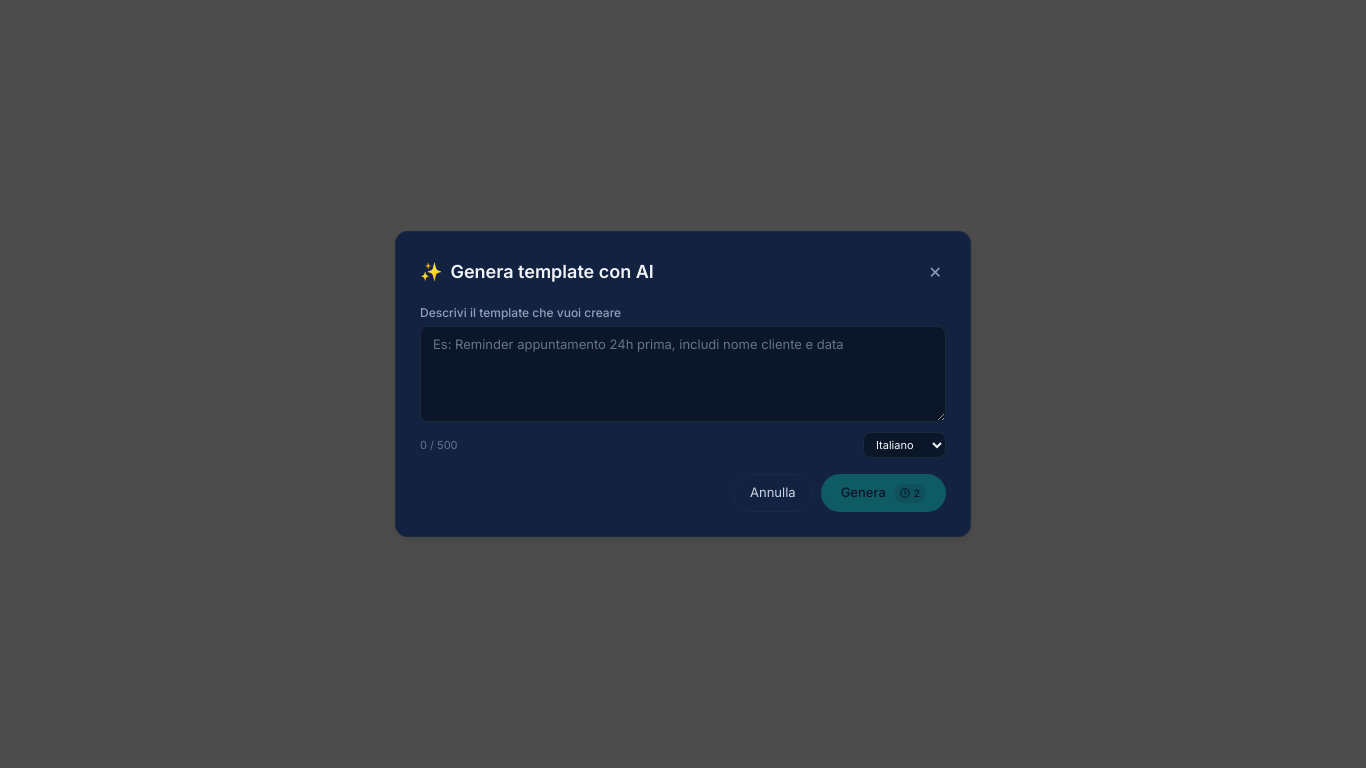
Test: <GenerateWithAI> › shows preview on successful generation
Type "Reminder 24h prima" into the text box with placeholder "Reminder appuntamento" at coordinates (683, 374), box [420,326,946,422]
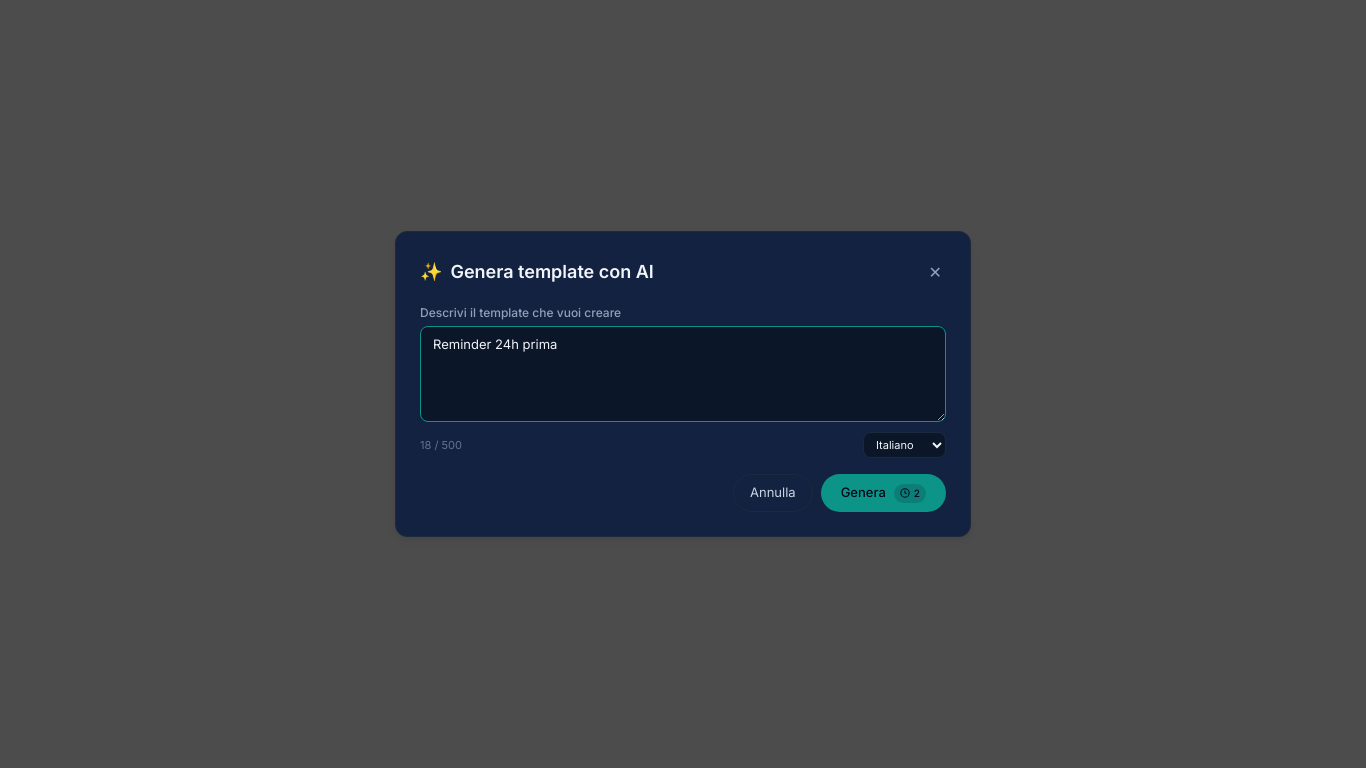
Click the button "Genera 2" at coordinates (883, 493), box [821,474,946,512]
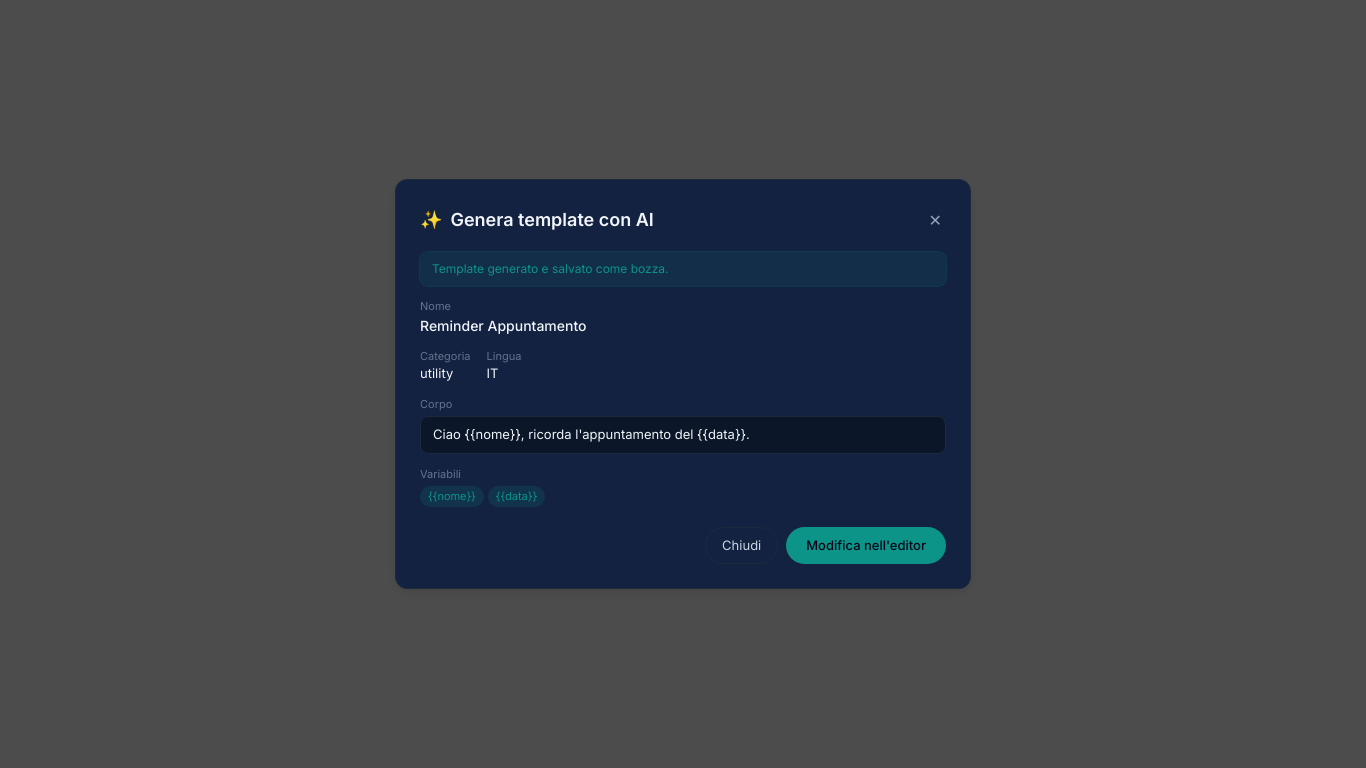
Check: the text "Reminder Appuntamento" is shown, box [420,316,586,334]
Check: the text "Ciao {{nome}}, ricorda l'appuntamento del {{data}}." is shown, box [420,416,946,454]
Check: the text "{{nome}}" is shown, box [420,486,484,506]
